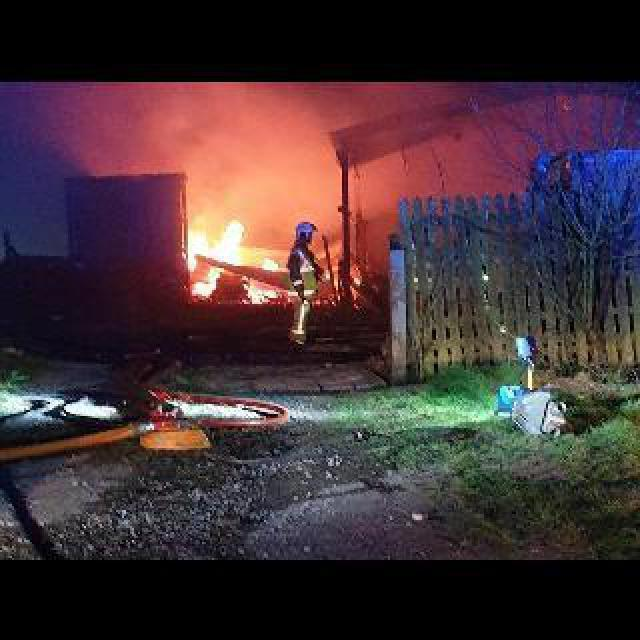Fire: (182, 216, 244, 298), (246, 282, 278, 304), (264, 256, 288, 270)
